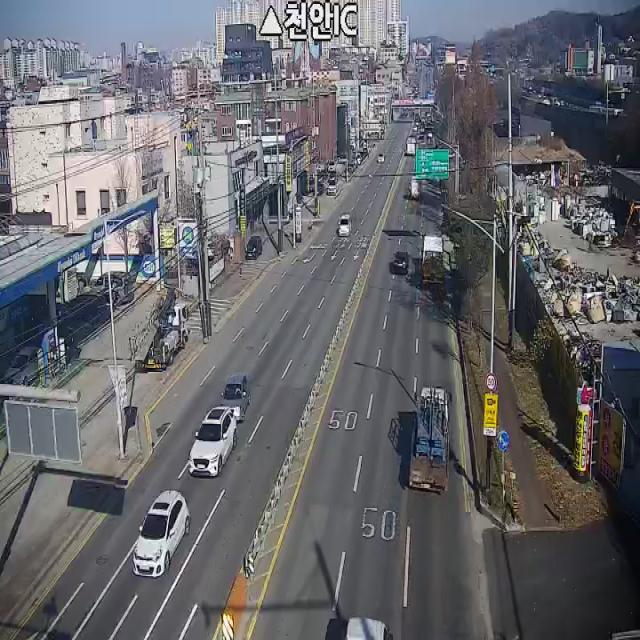Car: (132, 490, 190, 578), (188, 406, 237, 478), (220, 373, 251, 421), (95, 271, 134, 304), (344, 617, 393, 640), (246, 236, 262, 260), (394, 251, 408, 273), (338, 214, 351, 236), (327, 178, 338, 195), (378, 153, 384, 162)
Truck: (130, 288, 188, 369), (409, 387, 449, 492), (422, 234, 443, 284), (409, 176, 421, 198), (406, 136, 416, 154)
